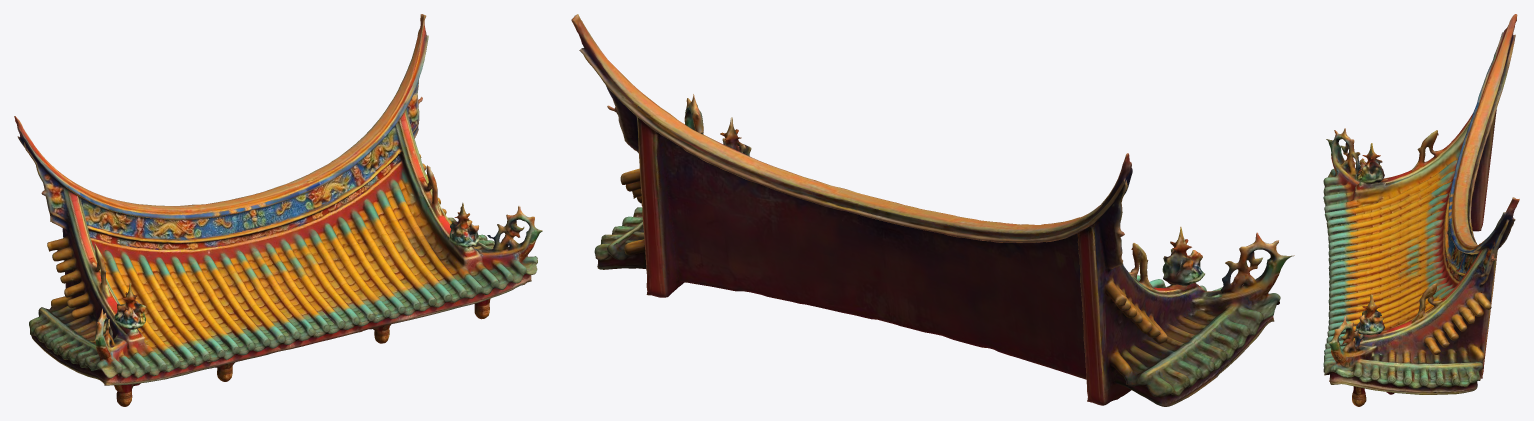
File: roof2.glb
3 views of the same model, side by side, from view 1: azimuth 30°, elevation 25°; view 2: azimuth 150°, elevation 25°; view 3: azimuth 270°, elevation 25° (orthographic). The views are drawn at different scales.
Bounding box in the file's own units: 0.9887 × 0.4988 × 0.4023.
Materials: 1 (1 with a texture image).
